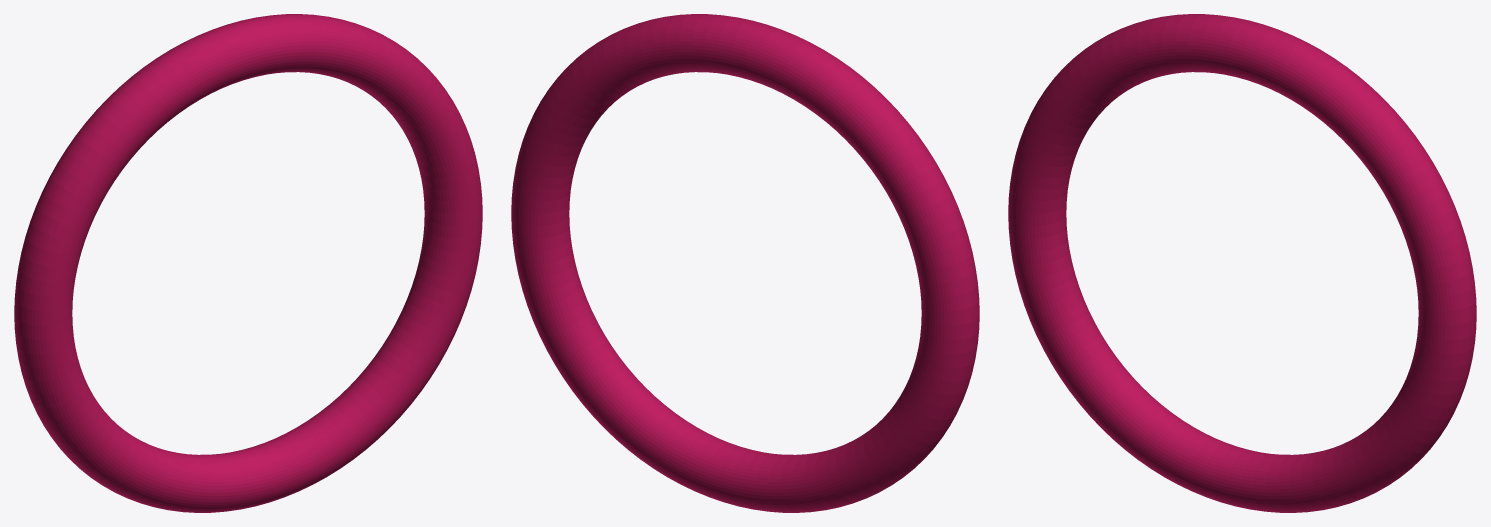
3 views of the same model, side by side, from view 1: azimuth 30°, elevation 25°; view 2: azimuth 150°, elevation 25°; view 3: azimuth 330°, elevation 25° (orthographic).
Parts seen in each view (by area): view 1: world; view 2: world; view 3: world.
Boxes of the visible parts, <box> form: world: <box>14,14,482,512</box>; world: <box>511,14,979,512</box>; world: <box>1008,14,1476,512</box>.
Size of the model in its own units: 32.93 by 32.93 by 3.59.
